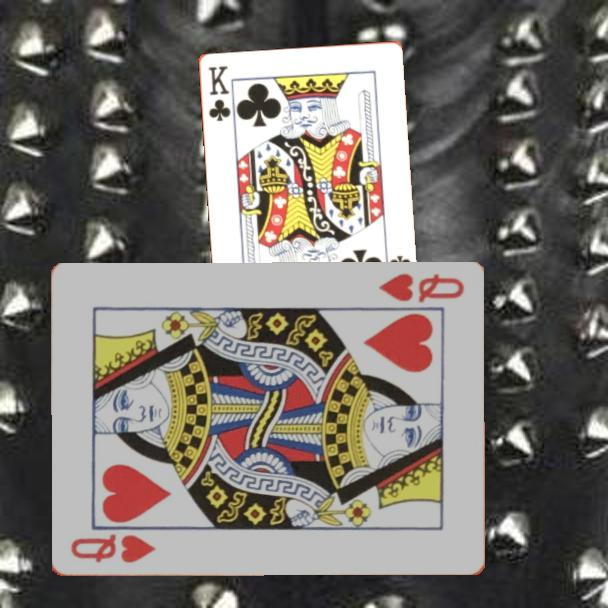c13: (204, 62, 233, 124)
h12: (374, 270, 466, 306), (67, 531, 158, 566)
